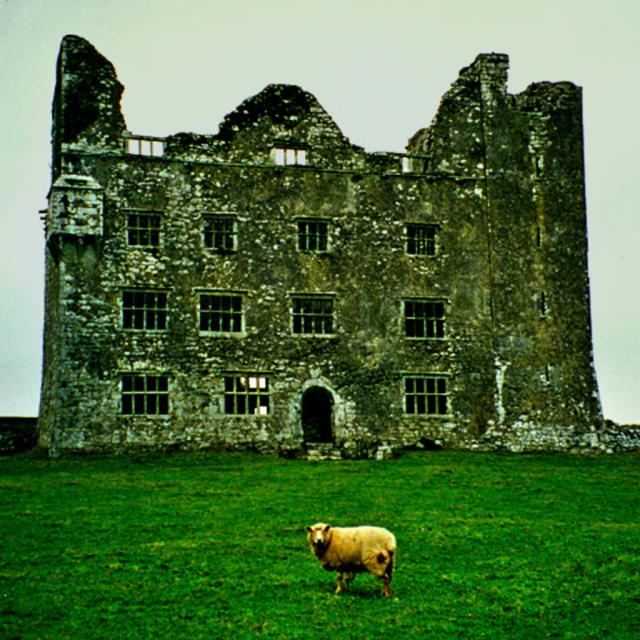Sheep: (309, 519, 396, 601)
